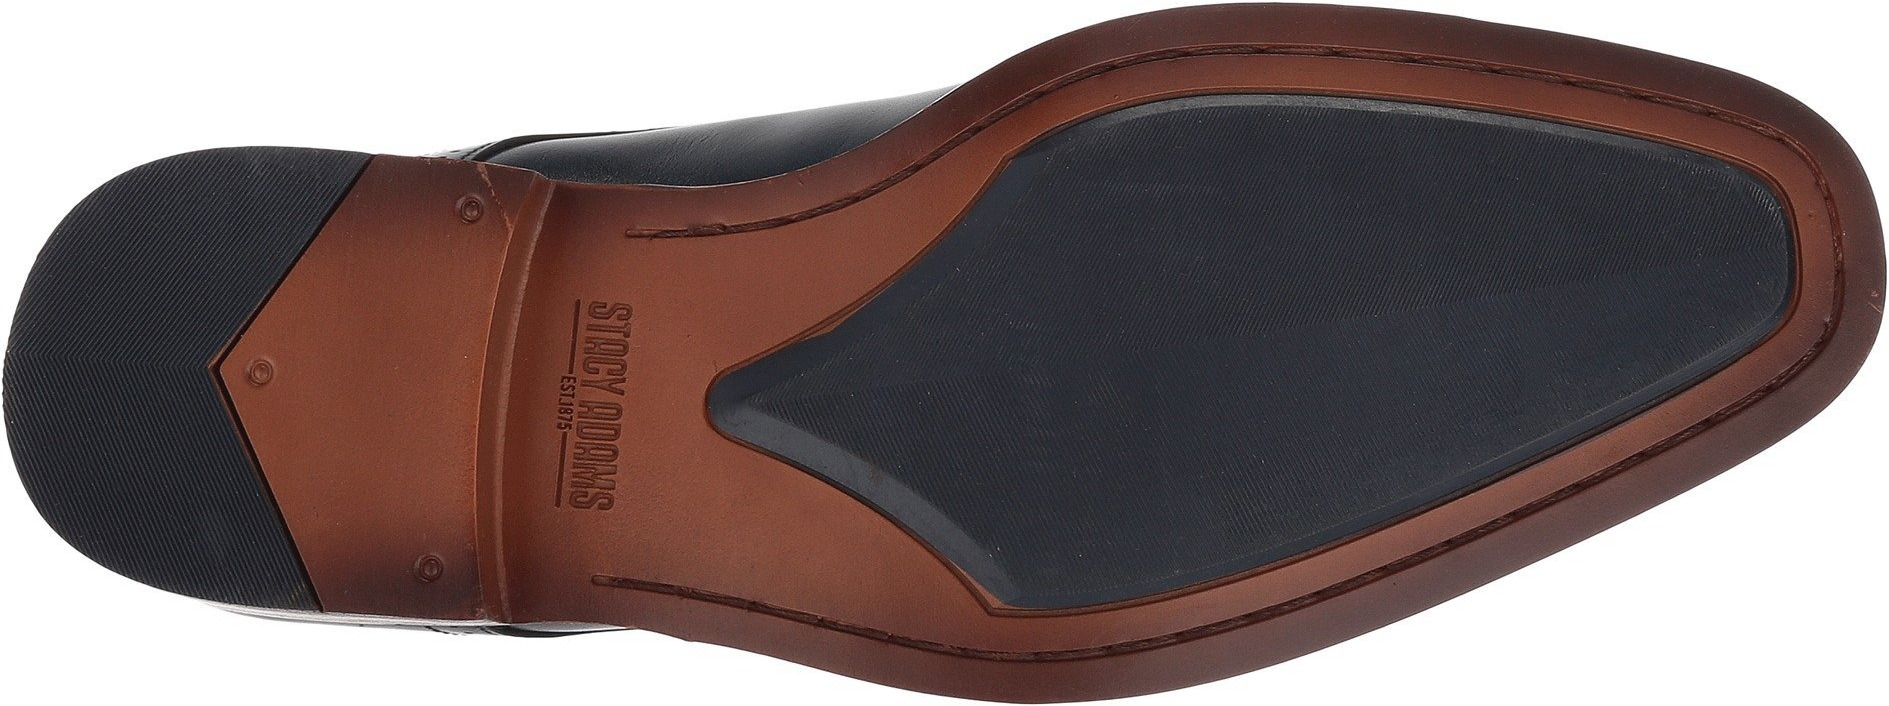chevron: (955, 246, 1264, 526), (1284, 125, 1581, 400), (28, 286, 207, 449), (1601, 188, 1748, 337)
circle: (435, 176, 506, 248), (399, 536, 461, 596)
line: (955, 246, 1264, 526), (1284, 125, 1581, 400), (28, 286, 207, 449), (1601, 188, 1748, 337)
other: (270, 294, 467, 476)
text: (526, 408, 661, 523), (561, 296, 655, 396)
